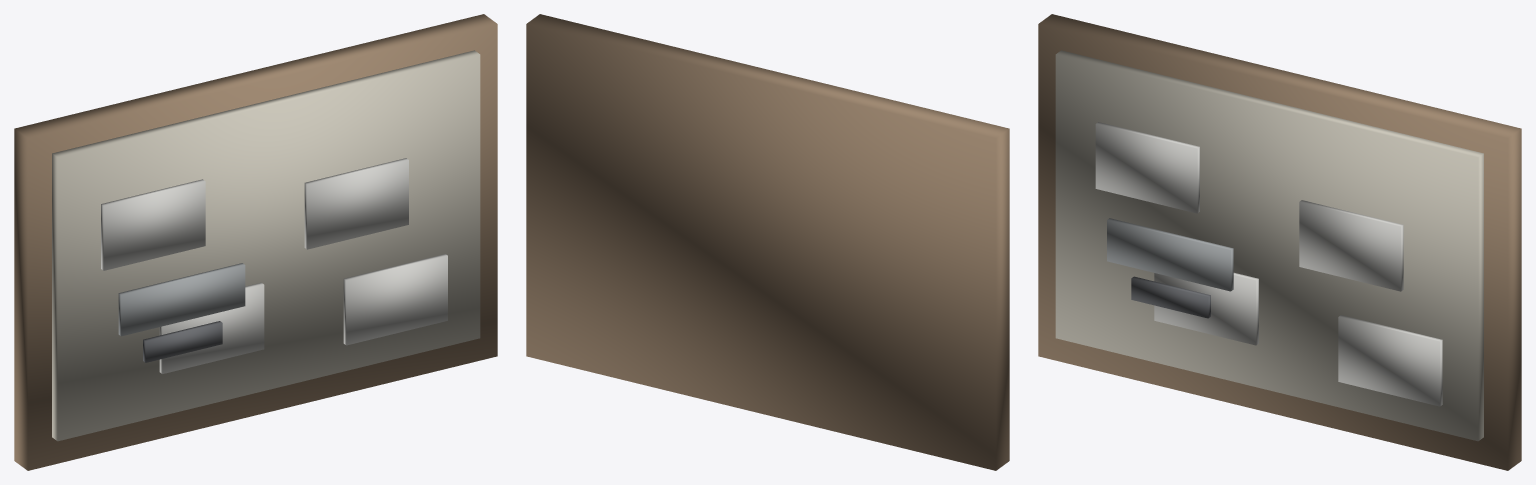
File: newsroom_assignment_board__weathered.glb
The picture shows the model from 3 angles, left to right: view 1: azimuth 30°, elevation 25°; view 2: azimuth 150°, elevation 25°; view 3: azimuth 330°, elevation 25°; orthographic projection.
Parts seen in each view (by area): view 1: world; view 2: world; view 3: world.
Boxes of the visible parts, x1,y1,x2,y2 form: world: (14, 14, 497, 470); world: (526, 14, 1009, 470); world: (1038, 14, 1521, 470).
Size of the model in its own units: 1.2 by 0.8118 by 0.115.
